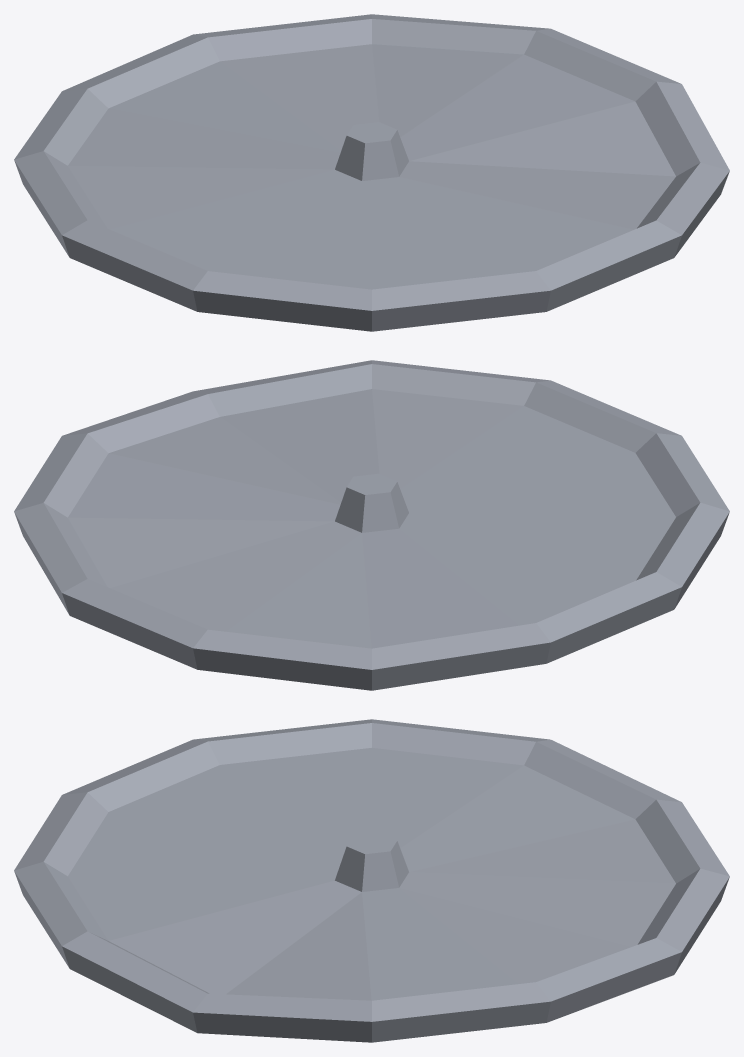
Rendered from SM_Prop_Pot_Large_Lid_01.fbx.
3 views of the same model, one above another, from view 1: azimuth 30°, elevation 25°; view 2: azimuth 150°, elevation 25°; view 3: azimuth 270°, elevation 25° (orthographic).
Visible parts, largest first — view 1: SM_Prop_Pot_Large_Lid_01; view 2: SM_Prop_Pot_Large_Lid_01; view 3: SM_Prop_Pot_Large_Lid_01.
Part boxes in pixels (x1,y1,x2,y2): SM_Prop_Pot_Large_Lid_01: (14, 14, 729, 331); SM_Prop_Pot_Large_Lid_01: (14, 360, 729, 690); SM_Prop_Pot_Large_Lid_01: (14, 719, 729, 1042).
Bounding box in the file's own units: 138 × 13.21 × 138.
